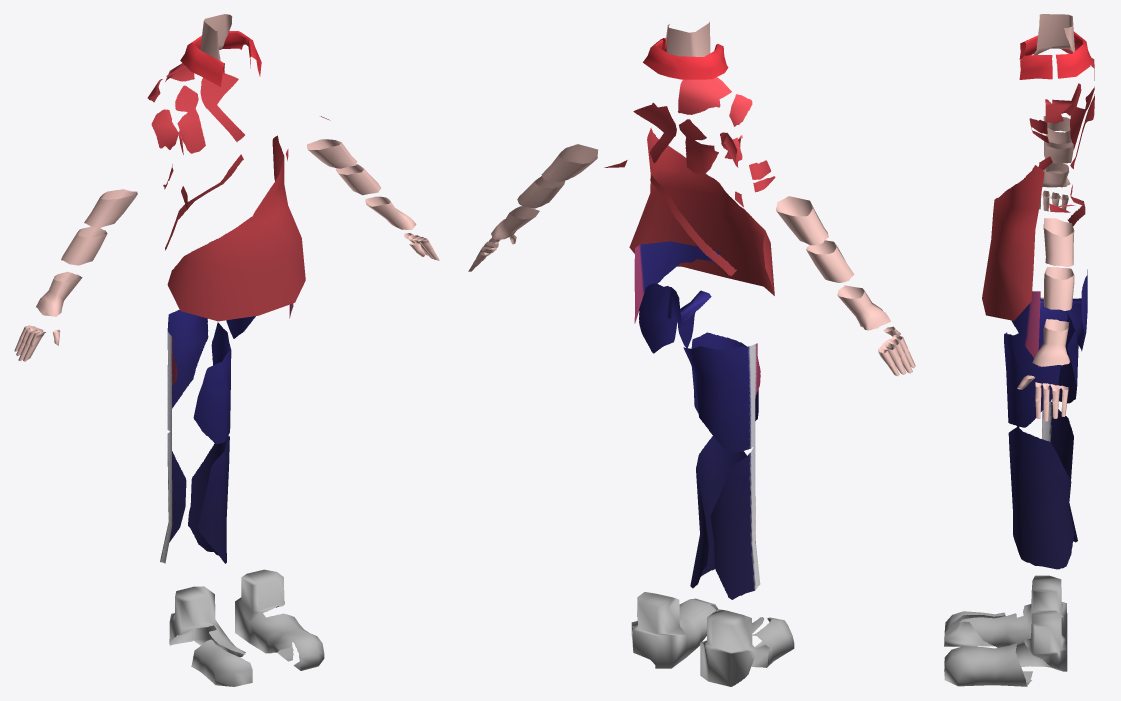
3 views of the same model, side by side, from view 1: azimuth 30°, elevation 25°; view 2: azimuth 150°, elevation 25°; view 3: azimuth 270°, elevation 25° (orthographic). The views are drawn at different scales.
Visible parts, largest first — view 1: Body.002; view 2: Body.002; view 3: Body.002.
Part boxes in pixels (x1,y1,x2,y2): Body.002: (14,14,439,686); Body.002: (468,21,915,686); Body.002: (944,14,1094,686).
Size of the model in its own units: 1.18 by 1.67 by 0.3862.
